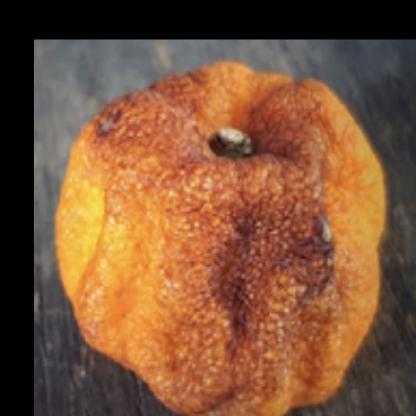rotten: (60, 63, 390, 416)
